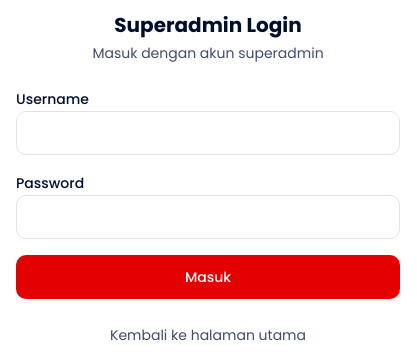
Test case: SuperadminSection - login loading state › shows Masuk... when login is in progress
The image size is (417, 358).
Step 1. Type "admin" into the field labelled "Username" → (208, 133), box [16,111,400,155]
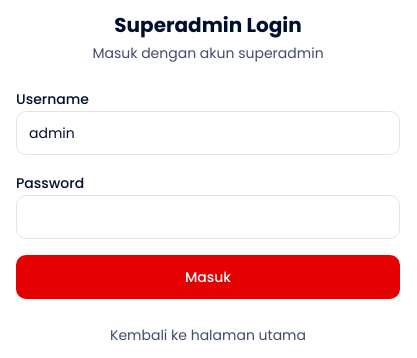
Step 2. Type "pass" into the password field labelled "Password" → (208, 217), box [16,195,400,239]
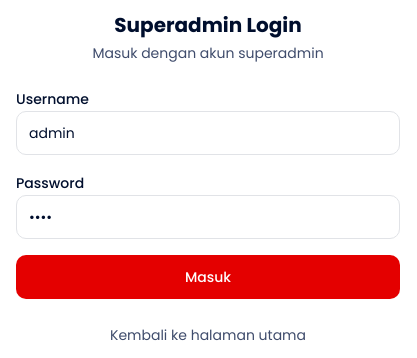
Step 3. Submit the text "Masuk", box [16,87,400,299]
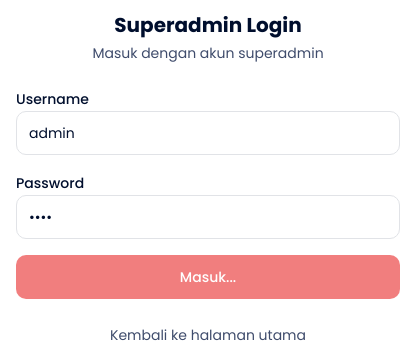
Check: the button "Masuk..." is shown, box [16,255,400,299]
